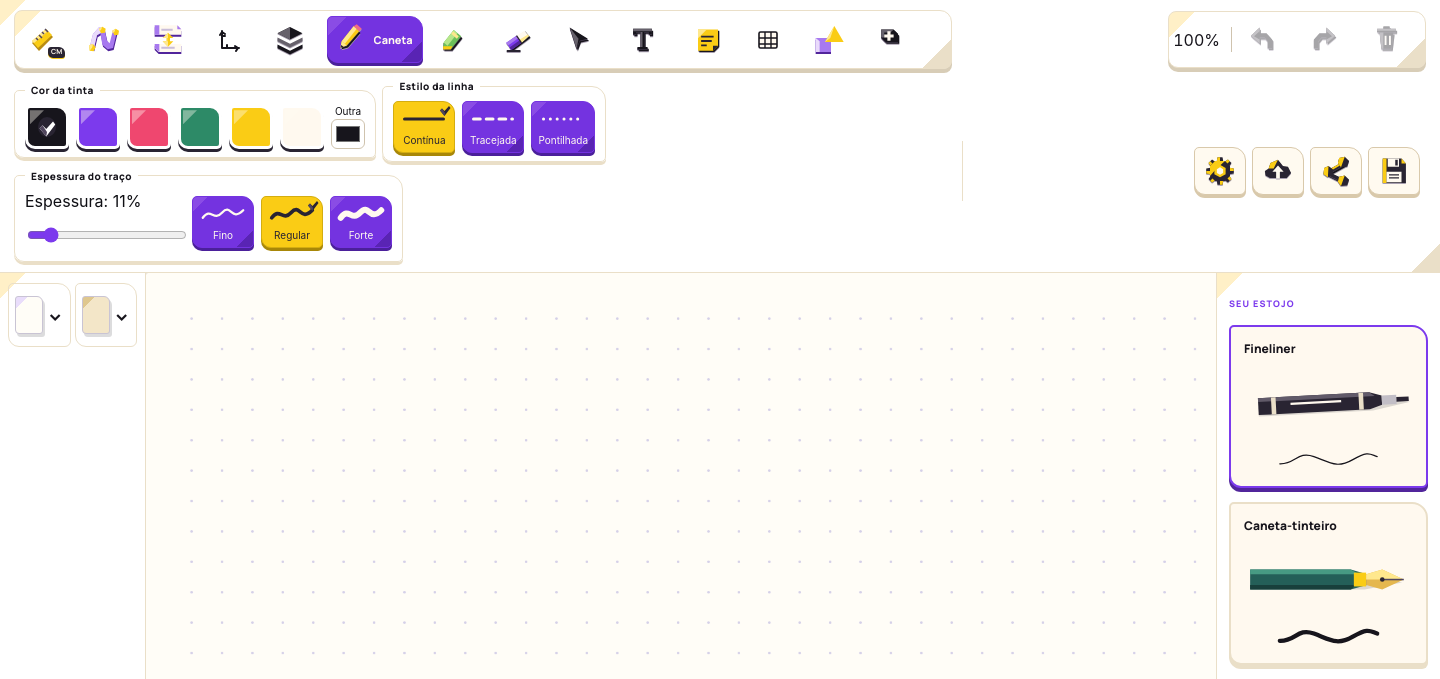
Test case: inserir formas pelo teclado, sem desenhar › Fechar ou cancelar não insere nada
Click the button named "Inserir sem desenhar".
click(832, 40)  # box [803,16,861,64]
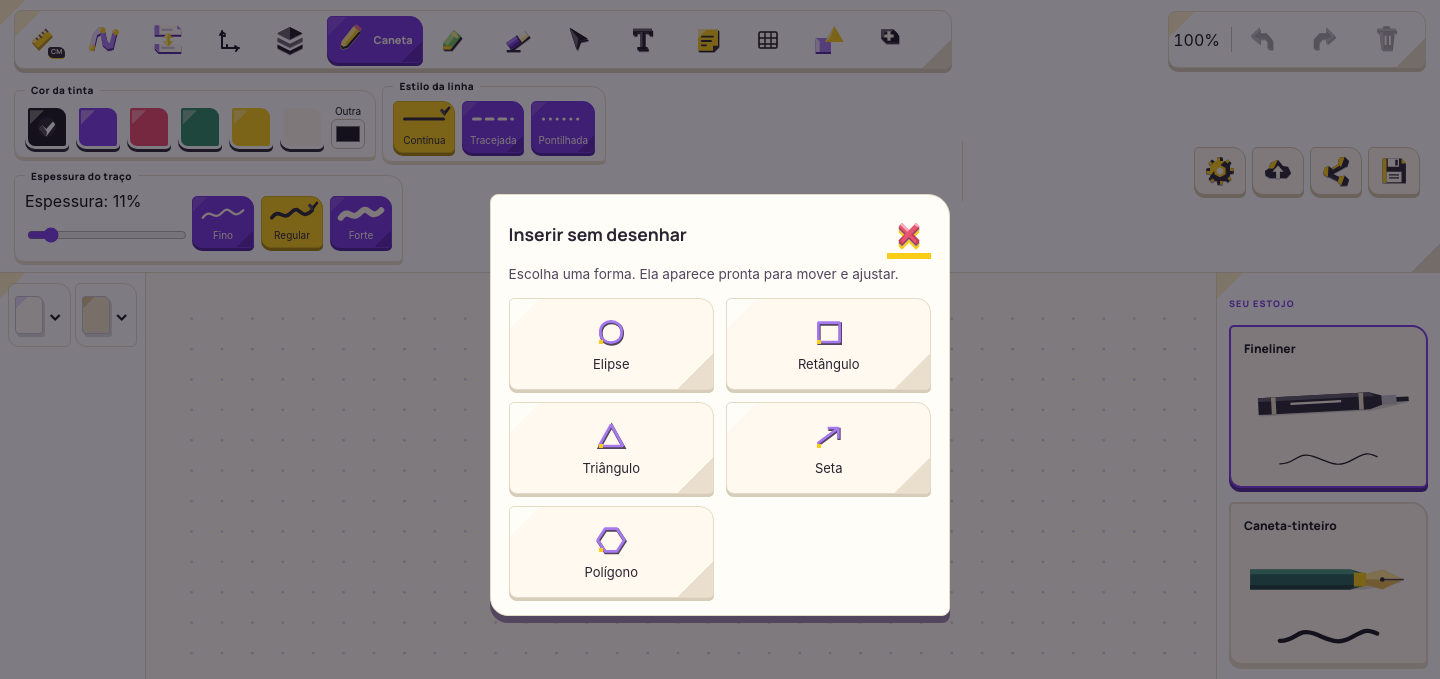
Click the button named "Fechar".
click(909, 234)  # box [887,212,931,256]
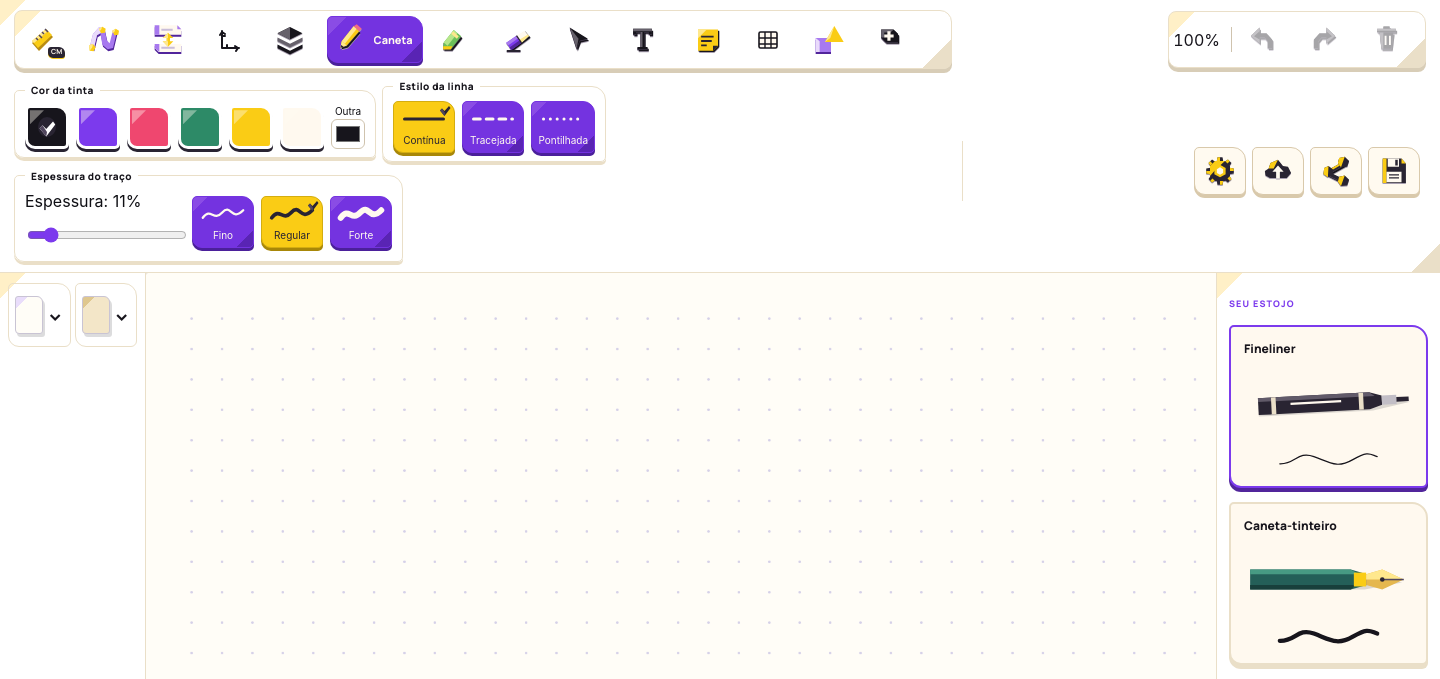
expect the heading "Inserir sem desenhar" is gone: met
